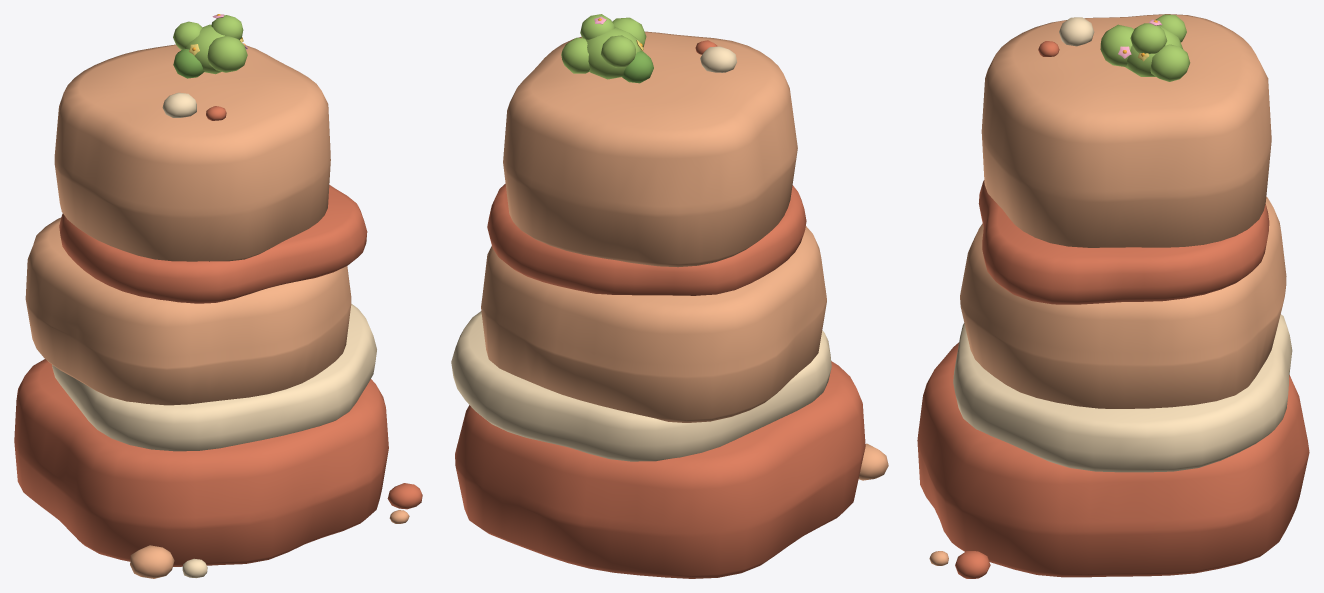
Rendered from prop_mesa.glb.
3 views of the same model, side by side, from view 1: azimuth 30°, elevation 25°; view 2: azimuth 150°, elevation 25°; view 3: azimuth 270°, elevation 25° (orthographic). The views are drawn at different scales.
Parts seen in each view (by area): view 1: prop_mesa; view 2: prop_mesa; view 3: prop_mesa.
Boxes of the visible parts, left/top/right/bottom form: prop_mesa: left=14, top=14, right=422, bottom=578; prop_mesa: left=451, top=14, right=888, bottom=578; prop_mesa: left=917, top=14, right=1309, bottom=578.
Size of the model in its own units: 4.01 by 5.55 by 3.95.
